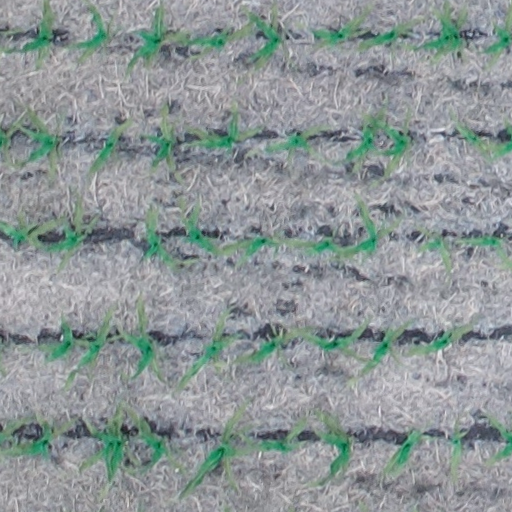planta: (180, 406, 241, 497), (175, 306, 237, 389), (331, 195, 404, 258), (349, 318, 414, 384), (80, 401, 127, 489), (45, 195, 100, 267), (66, 307, 113, 387), (184, 103, 261, 151), (131, 411, 187, 475), (2, 414, 75, 463), (140, 103, 182, 184), (20, 102, 62, 182), (118, 301, 160, 378), (294, 319, 367, 362), (126, 3, 168, 73), (314, 409, 352, 484), (24, 316, 78, 367), (178, 195, 223, 256), (213, 233, 295, 266), (233, 328, 305, 365), (263, 125, 327, 166), (87, 117, 133, 173), (237, 417, 305, 454), (140, 205, 179, 268), (376, 110, 412, 178), (451, 113, 504, 159), (343, 108, 387, 163), (67, 3, 109, 59), (405, 323, 473, 356), (244, 8, 283, 65), (310, 9, 367, 48), (381, 428, 425, 477), (356, 20, 418, 52), (171, 26, 246, 51), (416, 229, 451, 273), (281, 235, 348, 256), (447, 422, 465, 483)
